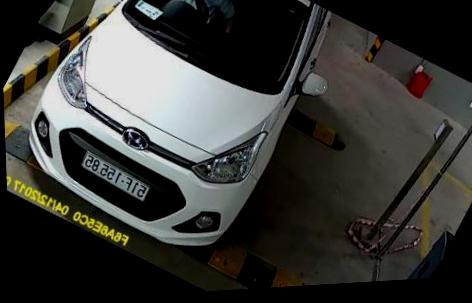License_Plate: (75, 149, 163, 210)
